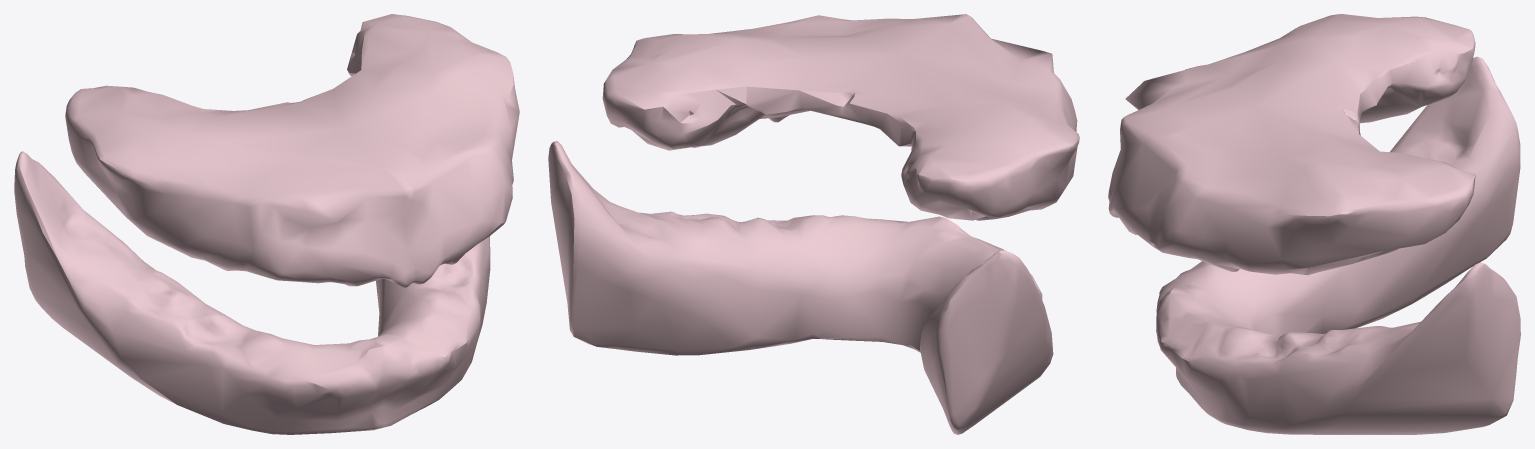
File: tooth.glb
3 views of the same model, side by side, from view 1: azimuth 30°, elevation 25°; view 2: azimuth 150°, elevation 25°; view 3: azimuth 270°, elevation 25° (orthographic). The views are drawn at different scales.
Parts seen in each view (by area): view 1: grp1.787, grp1.798; view 2: grp1.798, grp1.787; view 3: grp1.787, grp1.798.
Boxes of the visible parts, x1,y1,x2,y2 form: grp1.787: (65,14,519,287); grp1.798: (14,151,490,434); grp1.798: (548,141,1053,434); grp1.787: (602,14,1079,220); grp1.787: (1108,14,1475,275); grp1.798: (1156,57,1520,434).
Size of the model in its own units: 0.0753 by 0.0457 by 0.0605.
